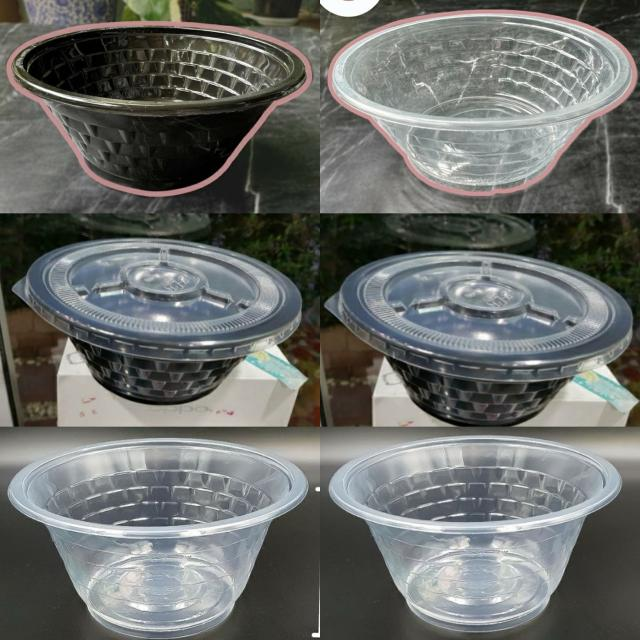Single-Use-Plastic: (8, 439, 308, 640), (328, 10, 637, 196), (329, 436, 622, 631), (325, 251, 632, 426), (8, 22, 311, 196), (14, 239, 301, 403)
